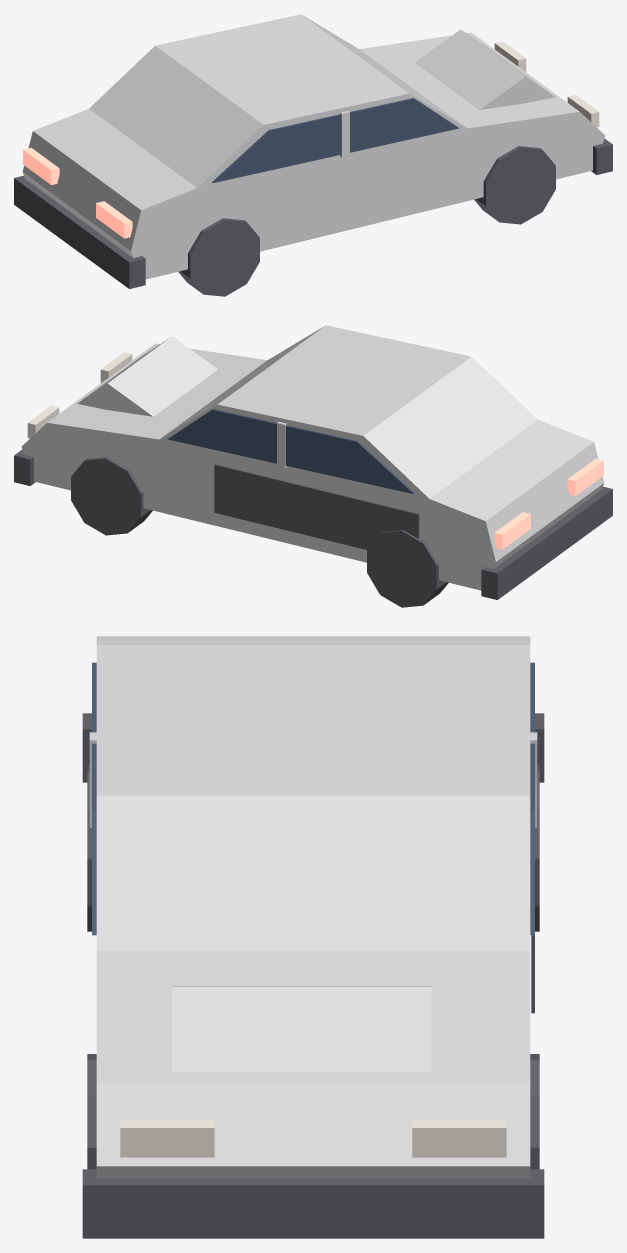
Rendered from Race_car.fbx.
3 renders of one model, top to bottom at view 1: azimuth 30°, elevation 25°; view 2: azimuth 150°, elevation 25°; view 3: azimuth 270°, elevation 25°, orthographic. The views are drawn at different scales.
Parts seen in each view (by area): view 1: Race_car; view 2: Race_car; view 3: Race_car.
Boxes of the visible parts, <box> form: Race_car: <box>14,14,612,296</box>; Race_car: <box>14,325,612,607</box>; Race_car: <box>82,636,544,1238</box>.
Bounding box in the file's own units: 4.74 × 1.5 × 1.96.
